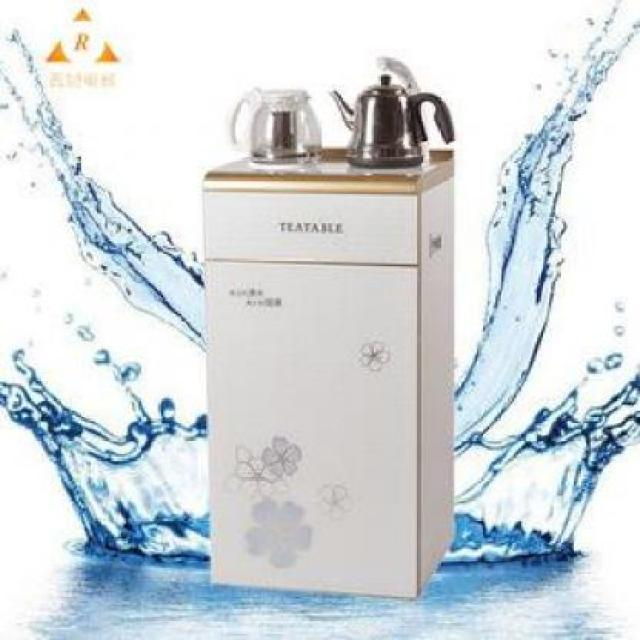cooler: (203, 48, 463, 600)
